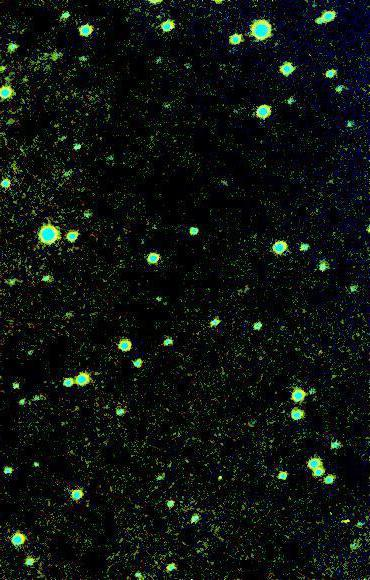star: (206, 464, 236, 494)
